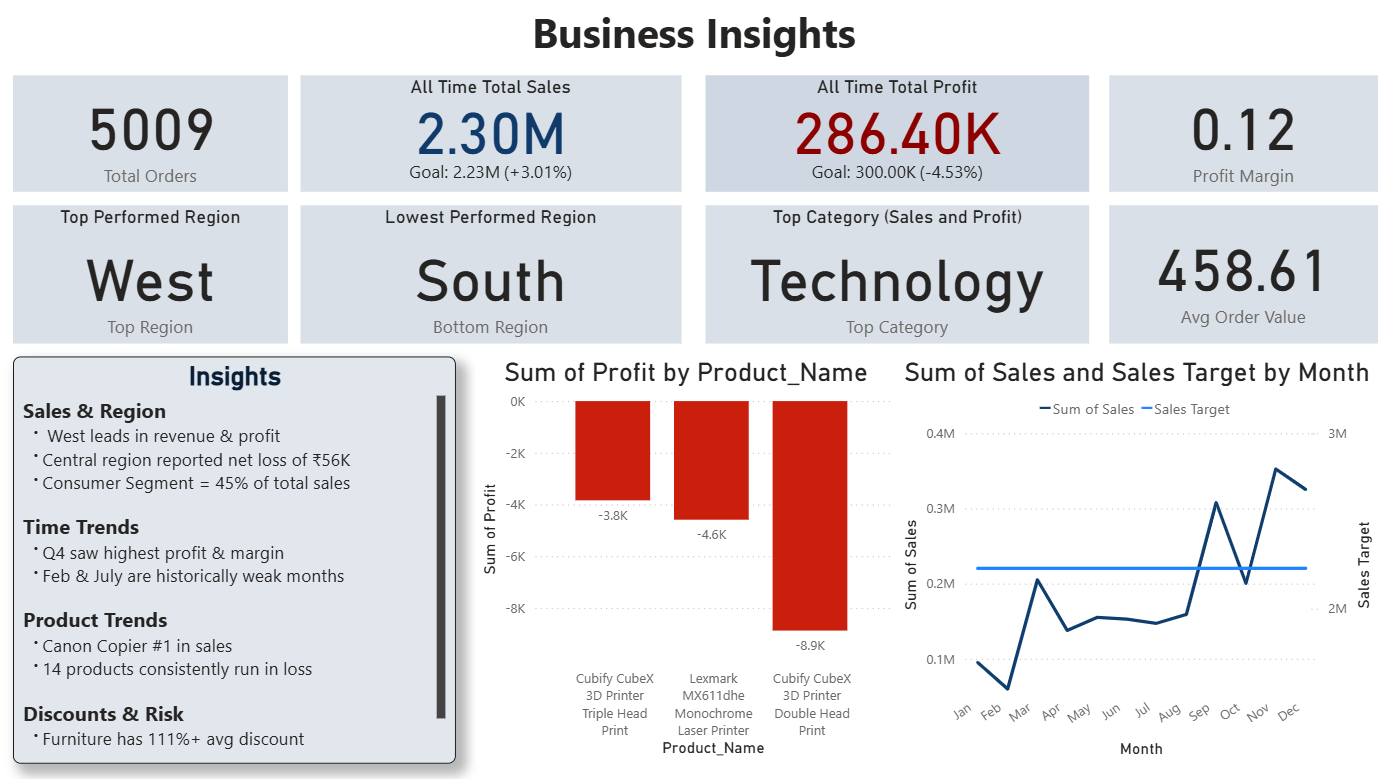

What the dashboard file says about the page in this screenshot:
{"tool":"powerbi","page":{"name":"Executive Summary","canvas":[1280,720],"ordinal":5},"visuals":[{"type":"textbox","box":[150.7,0,978.6,70],"z":0},{"type":"kpi","title":"All Time Total Sales","fields":{"Indicator":["Cleaned_Superstore.Total Sales All Time"],"Goal":["Cleaned_Superstore.Sales Target"],"TrendLine":["DateTable.Date"]},"box":[278.6,70,350,107.1],"z":1000},{"type":"kpi","title":"All Time Total Profit","fields":{"TrendLine":["DateTable.Date"],"Goal":["Cleaned_Superstore.Total Profit All Time"],"Indicator":["Cleaned_Superstore.Total Profit All Time1"]},"box":[650,70,352.9,107.1],"z":2000},{"type":"card","fields":{"Values":["Cleaned_Superstore.Total Orders"]},"box":[14.3,70,252.9,107.1],"z":3000},{"type":"card","fields":{"Values":["Cleaned_Superstore.Profit Margin"]},"box":[1021.4,70,247.1,107.1],"z":4000},{"type":"card","title":"Top Performed Region","fields":{"Values":["Cleaned_Superstore.Top Region"]},"box":[14.3,190,252.9,127.1],"z":5000},{"type":"card","title":"Top Category (Sales and Profit)","fields":{"Values":["Cleaned_Superstore.Top Category"]},"box":[650,190,352.9,127.1],"z":6000},{"type":"card","title":"Lowest Performed Region","fields":{"Values":["Cleaned_Superstore.Bottom Region"]},"box":[278.6,190,350,127.1],"z":7000},{"type":"card","fields":{"Values":["Cleaned_Superstore.Avg Order Value"]},"box":[1021.4,190,247.1,127.1],"z":8000},{"type":"textbox","title":"Insights","box":[14.3,328.6,407.1,374.3],"z":9000},{"type":"clusteredColumnChart","fields":{"Category":["Cleaned_Superstore.Product_Name"],"Y":["Sum(Cleaned_Superstore.Profit)"]},"box":[439.5,329.1,387.2,373.3],"z":10000},{"type":"lineChart","fields":{"Category":["DateTable.Month"],"Y":["Sum(Cleaned_Superstore.Sales)"],"Y2":["Cleaned_Superstore.Sales Target"]},"box":[826.7,329.1,441.9,373.3],"z":11000}]}

Visuals, with their boxes in screenshot pixels (x1, y1, x2, y2), scaled from the page's 1280x720 canvas onto the 1387x779 screenshot:
textbox: 163, 0, 1224, 76
"All Time Total Sales" kpi: 302, 76, 681, 192
"All Time Total Profit" kpi: 704, 76, 1087, 192
card - Cleaned_Superstore.Total Orders: 15, 76, 290, 192
card - Cleaned_Superstore.Profit Margin: 1107, 76, 1375, 192
"Top Performed Region" card: 15, 206, 290, 343
"Top Category (Sales and Profit)" card: 704, 206, 1087, 343
"Lowest Performed Region" card: 302, 206, 681, 343
card - Cleaned_Superstore.Avg Order Value: 1107, 206, 1375, 343
"Insights" textbox: 15, 356, 457, 760
clusteredColumnChart - Cleaned_Superstore.Product_Name x Sum(Cleaned_Superstore.Profit): 476, 356, 896, 760
lineChart - DateTable.Month x Sum(Cleaned_Superstore.Sales): 896, 356, 1375, 760
